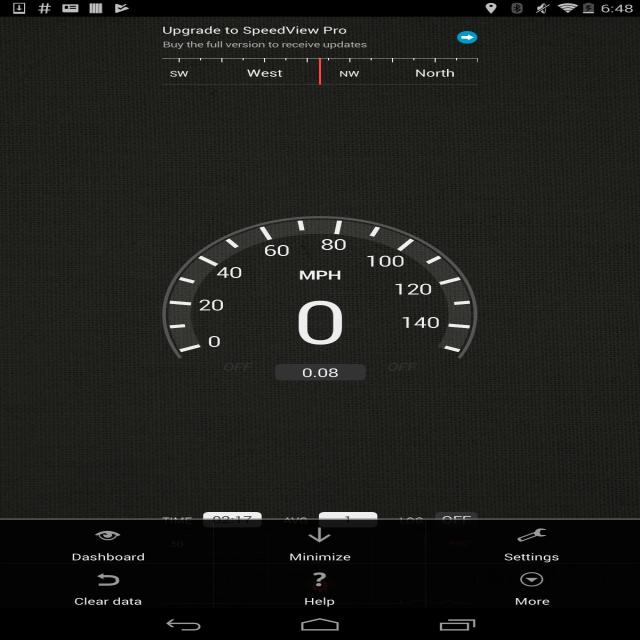button: (0, 563, 237, 615), (0, 518, 235, 563), (425, 518, 638, 566), (238, 564, 426, 615), (234, 518, 426, 566), (444, 16, 486, 54)
image: (151, 207, 484, 380), (426, 568, 640, 614), (162, 56, 480, 86), (508, 525, 552, 544), (300, 524, 338, 544), (512, 571, 552, 589), (91, 570, 125, 589), (92, 529, 126, 543), (308, 570, 331, 589)
text: (159, 22, 368, 54), (62, 548, 152, 564), (65, 593, 148, 608), (283, 548, 357, 564), (502, 548, 564, 565), (294, 594, 342, 609), (508, 596, 555, 608)
